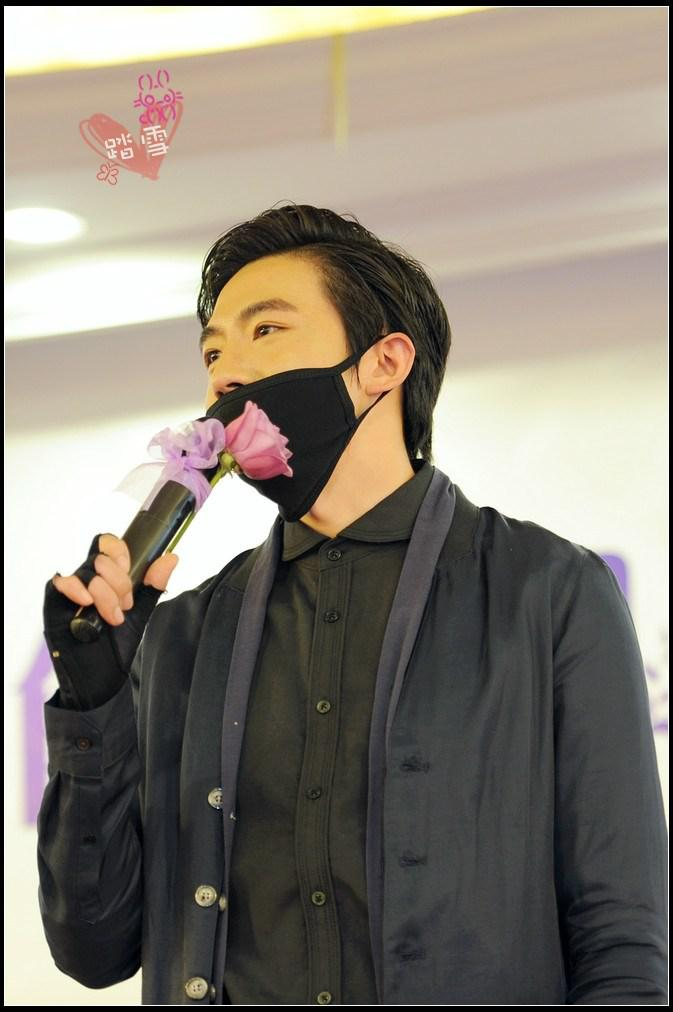WRONG: (189, 294, 375, 480)
